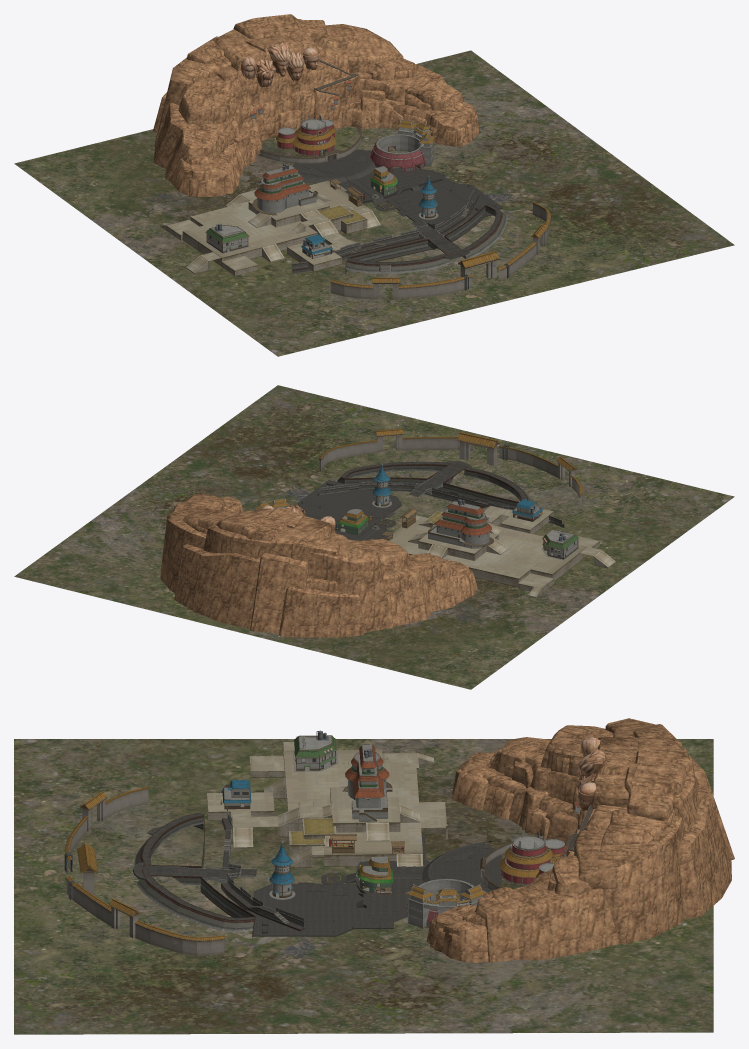
File: Residential.glb
3 renders of one model, top to bottom at view 1: azimuth 30°, elevation 25°; view 2: azimuth 150°, elevation 25°; view 3: azimuth 270°, elevation 25°, orthographic. The views are drawn at different scales.
Parts seen in each view (by area): view 1: Plane_Material.001_0_Material.001_0_88, Mesh_0194.rip_mat0.006_0_mat0.006_0_82, Mesh_0021.rip_mat0.041_0_mat0.041_0_22, Mesh_0029.rip_mat0.024_0_mat0.024_0_40, Mesh_0017.rip_mat0.016_0_mat0.016_0_19, Mesh_0183.rip_mat0.001_0_mat0.001_0_73, Mesh_0023.rip_mat0.029_0_mat0.029_0_28, Mesh_0024.rip_mat0.020_0_mat0.020_0_31, Mesh_0195.rip_mat0.007_0_mat0.007_0_85, Mesh_0032.rip_mat0.027_0_mat0.027_0_58, Mesh_0030.rip_mat0.025_0_mat0.025_0_46, Mesh_0030.rip.001_mat0.043_0_mat0.043_0_49 (+8 smaller); view 2: Plane_Material.001_0_Material.001_0_88, Mesh_0194.rip_mat0.006_0_mat0.006_0_82, Mesh_0021.rip_mat0.041_0_mat0.041_0_22, Mesh_0029.rip_mat0.024_0_mat0.024_0_40, Mesh_0017.rip_mat0.016_0_mat0.016_0_19, Mesh_0024.rip_mat0.020_0_mat0.020_0_31, Mesh_0030.rip.001_mat0.043_0_mat0.043_0_49, Mesh_0030.rip_mat0.025_0_mat0.025_0_46, Mesh_0027.rip_mat0.022_0_mat0.022_0_37, Mesh_0033.rip_mat0.028_0_mat0.028_0_64, Mesh_0183.rip_mat0.001_0_mat0.001_0_73, Mesh_0031.rip.001_mat0.044_0_mat0.044_0_55 (+4 smaller); view 3: Plane_Material.001_0_Material.001_0_88, Mesh_0194.rip_mat0.006_0_mat0.006_0_82, Mesh_0021.rip_mat0.041_0_mat0.041_0_22, Mesh_0029.rip_mat0.024_0_mat0.024_0_40, Mesh_0017.rip_mat0.016_0_mat0.016_0_19, Mesh_0183.rip_mat0.001_0_mat0.001_0_73, Mesh_0030.rip.001_mat0.043_0_mat0.043_0_49, Mesh_0024.rip_mat0.020_0_mat0.020_0_31, Mesh_0030.rip_mat0.025_0_mat0.025_0_46, Mesh_0023.rip_mat0.029_0_mat0.029_0_28, Mesh_0032.rip_mat0.027_0_mat0.027_0_58, Mesh_0027.rip_mat0.022_0_mat0.022_0_37 (+8 smaller).
Part boxes in pixels (bbox=[...]): Plane_Material.001_0_Material.001_0_88: bbox=[14, 50, 734, 356]; Mesh_0194.rip_mat0.006_0_mat0.006_0_82: bbox=[153, 14, 479, 196]; Mesh_0021.rip_mat0.041_0_mat0.041_0_22: bbox=[160, 180, 380, 275]; Mesh_0029.rip_mat0.024_0_mat0.024_0_40: bbox=[291, 188, 507, 273]; Mesh_0017.rip_mat0.016_0_mat0.016_0_19: bbox=[330, 202, 551, 299]; Mesh_0183.rip_mat0.001_0_mat0.001_0_73: bbox=[293, 146, 443, 211]; Mesh_0023.rip_mat0.029_0_mat0.029_0_28: bbox=[370, 119, 435, 172]; Mesh_0024.rip_mat0.020_0_mat0.020_0_31: bbox=[252, 163, 318, 215]; Mesh_0195.rip_mat0.007_0_mat0.007_0_85: bbox=[241, 42, 319, 87]; Mesh_0032.rip_mat0.027_0_mat0.027_0_58: bbox=[276, 114, 336, 156]; Mesh_0030.rip_mat0.025_0_mat0.025_0_46: bbox=[292, 194, 500, 269]; Mesh_0030.rip.001_mat0.043_0_mat0.043_0_49: bbox=[385, 172, 502, 223]; Plane_Material.001_0_Material.001_0_88: bbox=[14, 385, 734, 689]; Mesh_0194.rip_mat0.006_0_mat0.006_0_82: bbox=[160, 493, 477, 637]; Mesh_0021.rip_mat0.041_0_mat0.041_0_22: bbox=[386, 506, 615, 597]; Mesh_0029.rip_mat0.024_0_mat0.024_0_40: bbox=[317, 462, 564, 527]; Mesh_0017.rip_mat0.016_0_mat0.016_0_19: bbox=[319, 428, 583, 506]; Mesh_0024.rip_mat0.020_0_mat0.020_0_31: bbox=[428, 499, 493, 548]; Mesh_0030.rip.001_mat0.043_0_mat0.043_0_49: bbox=[298, 480, 400, 525]; Mesh_0030.rip_mat0.025_0_mat0.025_0_46: bbox=[318, 460, 563, 524]; Mesh_0027.rip_mat0.022_0_mat0.022_0_37: bbox=[541, 529, 579, 560]; Mesh_0033.rip_mat0.028_0_mat0.028_0_64: bbox=[457, 432, 499, 465]; Mesh_0183.rip_mat0.001_0_mat0.001_0_73: bbox=[305, 511, 395, 540]; Mesh_0031.rip.001_mat0.044_0_mat0.044_0_55: bbox=[304, 485, 395, 520]; Plane_Material.001_0_Material.001_0_88: bbox=[14, 739, 713, 1034]; Mesh_0194.rip_mat0.006_0_mat0.006_0_82: bbox=[426, 718, 734, 962]; Mesh_0021.rip_mat0.041_0_mat0.041_0_22: bbox=[207, 742, 447, 867]; Mesh_0029.rip_mat0.024_0_mat0.024_0_40: bbox=[134, 783, 304, 937]; Mesh_0017.rip_mat0.016_0_mat0.016_0_19: bbox=[64, 787, 224, 955]; Mesh_0183.rip_mat0.001_0_mat0.001_0_73: bbox=[307, 833, 501, 921]; Mesh_0030.rip.001_mat0.043_0_mat0.043_0_49: bbox=[254, 884, 392, 935]; Mesh_0024.rip_mat0.020_0_mat0.020_0_31: bbox=[342, 744, 392, 821]; Mesh_0030.rip_mat0.025_0_mat0.025_0_46: bbox=[132, 792, 304, 929]; Mesh_0023.rip_mat0.029_0_mat0.029_0_28: bbox=[405, 878, 486, 928]; Mesh_0032.rip_mat0.027_0_mat0.027_0_58: bbox=[500, 830, 564, 885]; Mesh_0027.rip_mat0.022_0_mat0.022_0_37: bbox=[293, 730, 337, 771].
Size of the model in its own units: 458 by 99.67 by 472.
28 materials, 26 textured.
